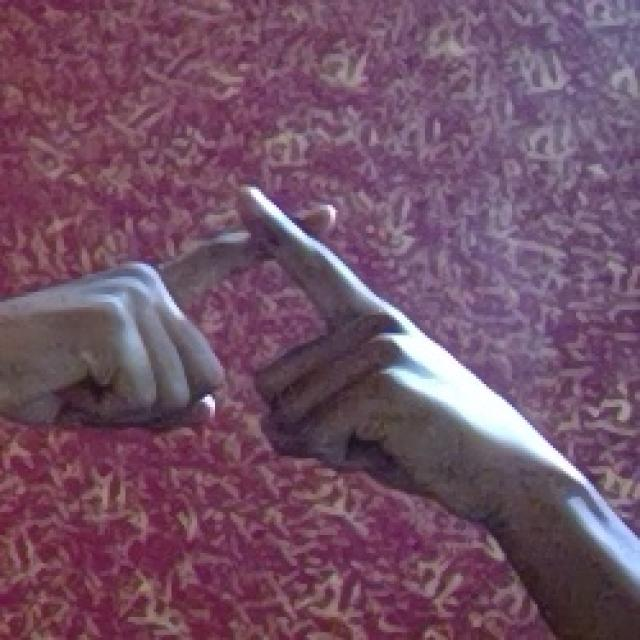Alphabet-X: (0, 148, 527, 512), (440, 577, 442, 578)
